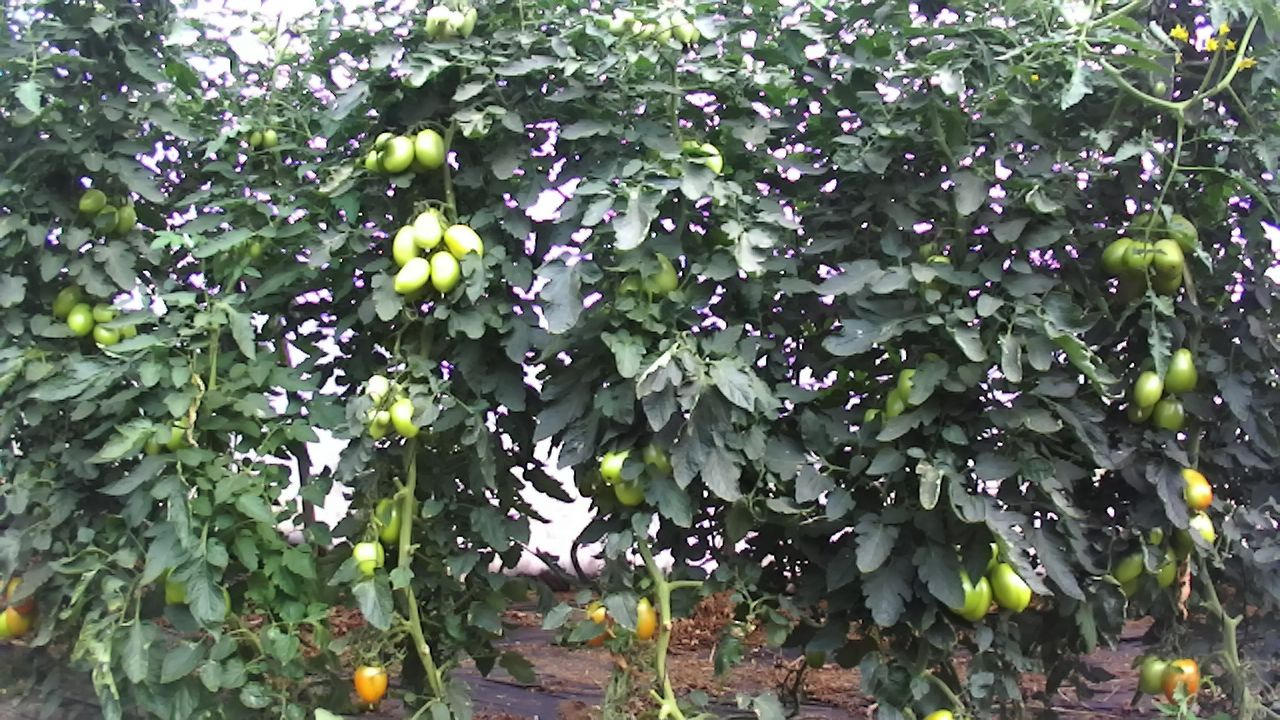tomato: (988, 559, 1035, 617), (440, 220, 486, 263), (1161, 345, 1199, 396), (351, 659, 390, 707), (1163, 656, 1200, 706), (1177, 464, 1215, 511), (389, 218, 424, 268), (427, 248, 462, 297), (378, 132, 416, 176), (411, 207, 449, 251), (596, 444, 633, 489), (391, 254, 430, 295), (51, 282, 94, 319), (413, 127, 447, 173), (1098, 235, 1136, 276), (1137, 652, 1172, 696), (388, 396, 422, 440), (1130, 368, 1165, 410), (349, 538, 386, 575), (1151, 236, 1186, 275), (1151, 395, 1186, 433), (63, 300, 95, 339), (633, 593, 658, 642), (1121, 238, 1154, 273), (5, 603, 31, 640), (77, 187, 108, 216), (115, 201, 139, 237), (92, 323, 120, 347), (91, 300, 119, 322)
